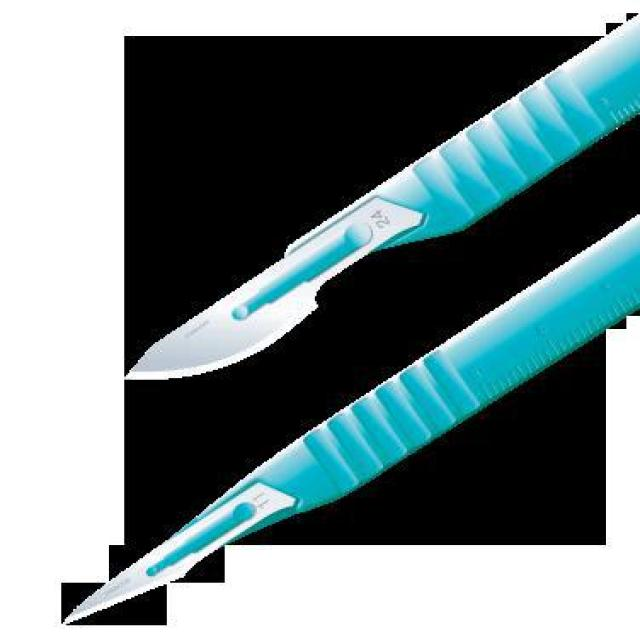B3: (66, 223, 640, 620), (127, 23, 640, 378)
